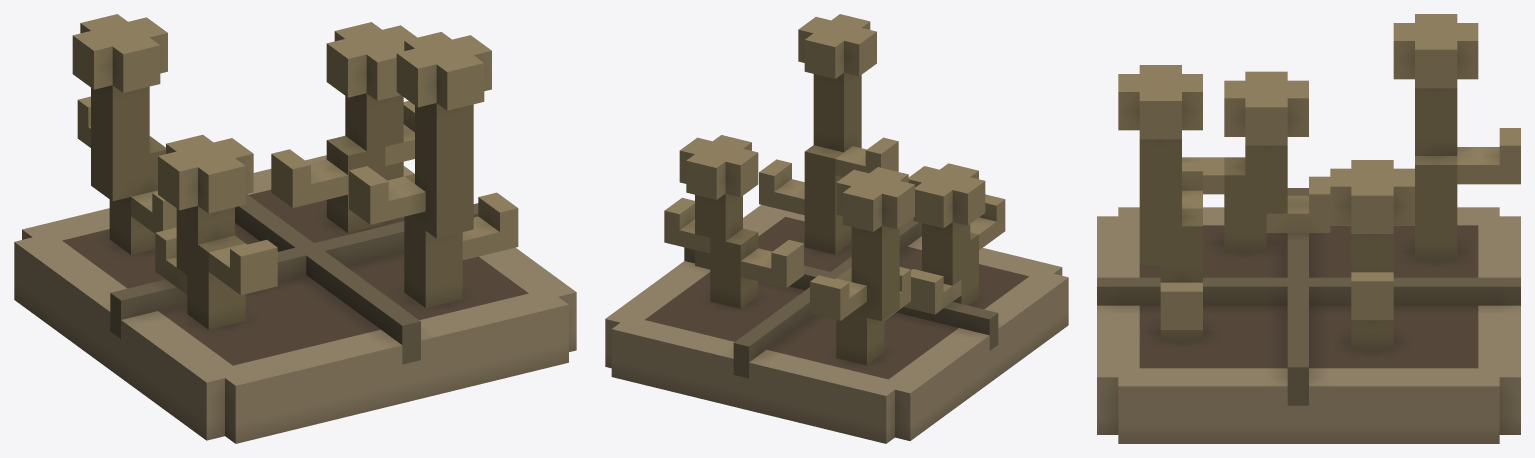
File: flowers_2_packed_autumn.glb
3 views of the same model, side by side, from view 1: azimuth 30°, elevation 25°; view 2: azimuth 150°, elevation 25°; view 3: azimuth 270°, elevation 25° (orthographic). The views are drawn at different scales.
Visible parts, largest first — view 1: VoxelVisual; view 2: VoxelVisual; view 3: VoxelVisual.
Boxes of the visible parts, <box> form: VoxelVisual: <box>14,14,576,443</box>; VoxelVisual: <box>605,14,1068,443</box>; VoxelVisual: <box>1097,14,1520,443</box>.
Size of what is drawn, in the model's own units: 1.25 by 1 by 1.25.
